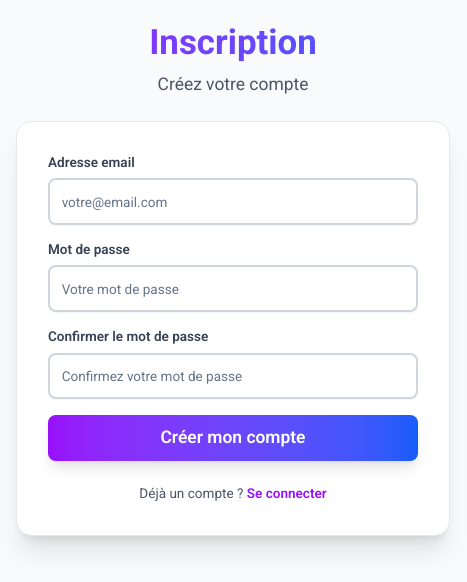
Test: inscription page › shows inline error when passwords do not match
This screenshot has width=467, height=582.
Type "foo@bar.com" into the field labelled "Adresse email" at (233, 202), box [48,178,418,225]
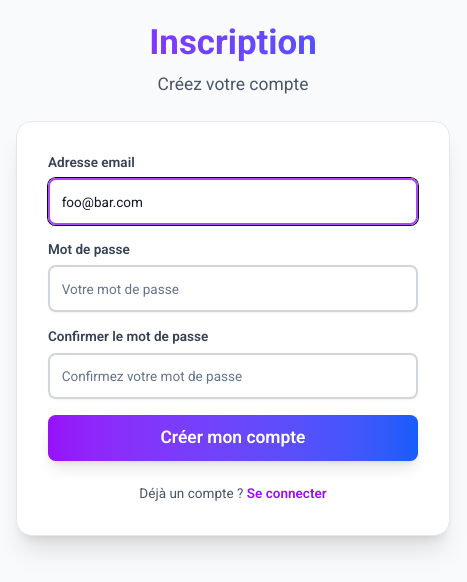
Type "goodpass1" into the password field labelled "Mot de passe" at (233, 289), box [48,266,418,312]
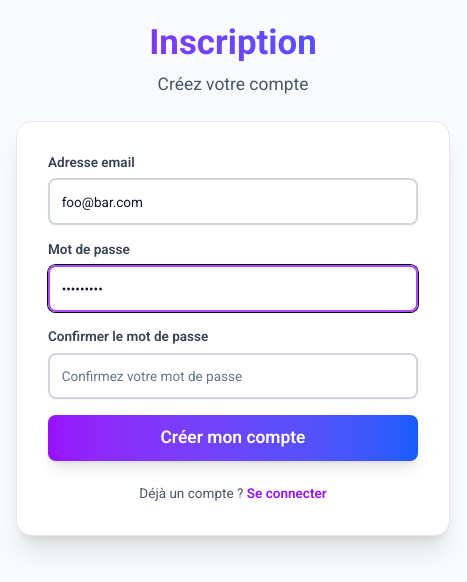
Type "different1" into the password field labelled "Confirmer le mot de passe" at (233, 376), box [48,353,418,399]
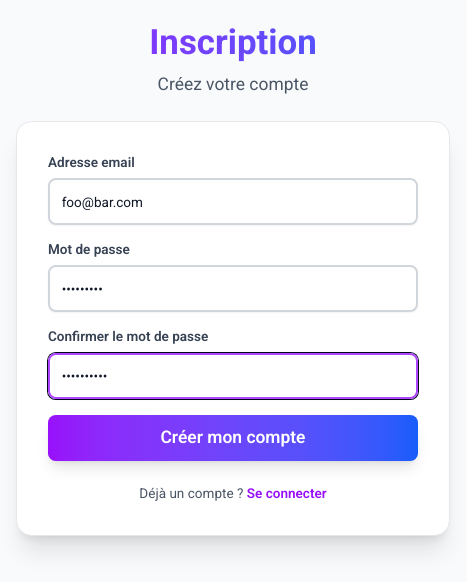
Click the button "Créer mon compte" at (233, 438), box [48,415,418,461]
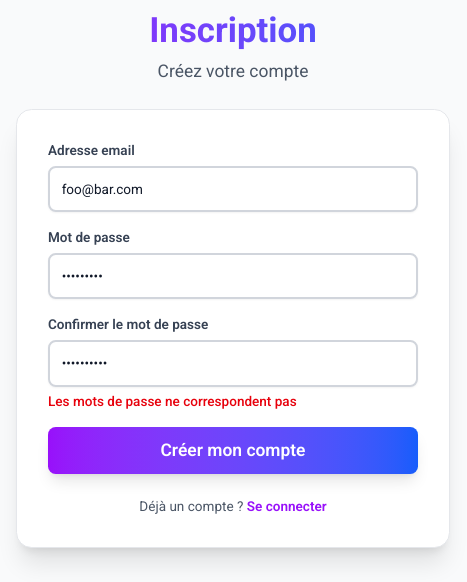
Now the text "Les mots de passe ne correspondent pas" is shown, box [48,393,297,409]
